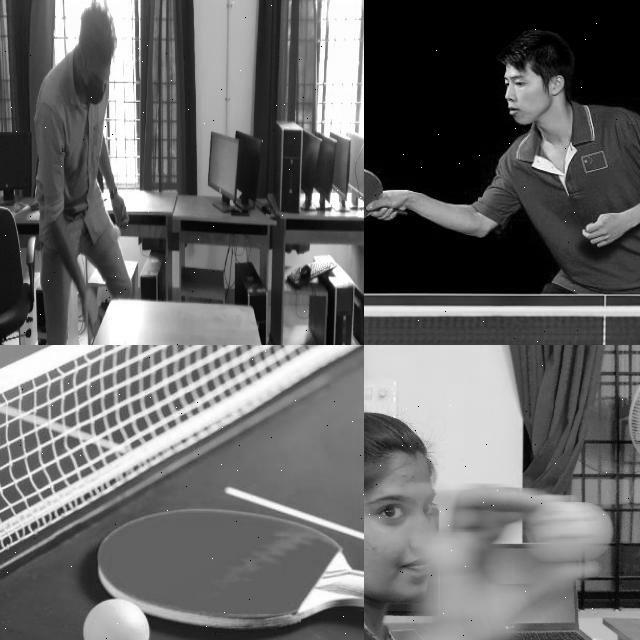ping-pong-ball: (526, 503, 614, 559), (80, 598, 150, 639), (112, 223, 120, 245)
